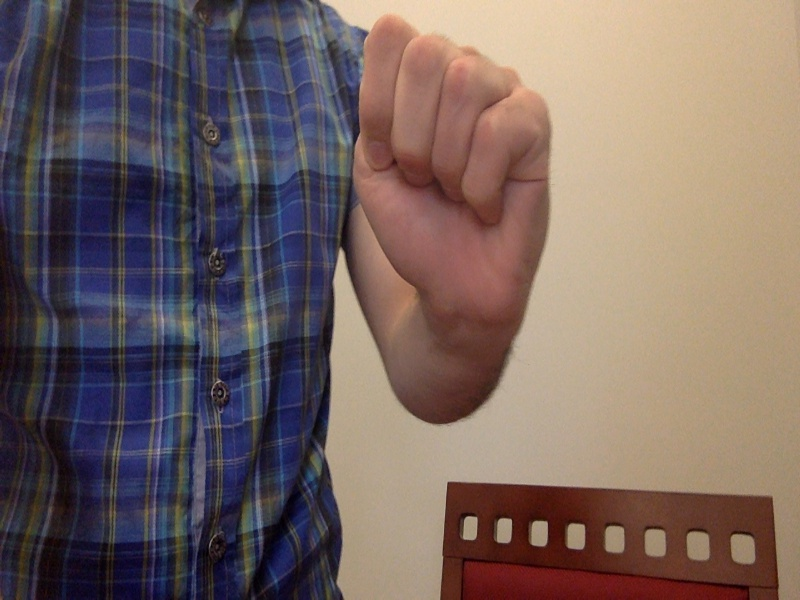0-hand: (348, 15, 557, 343)
